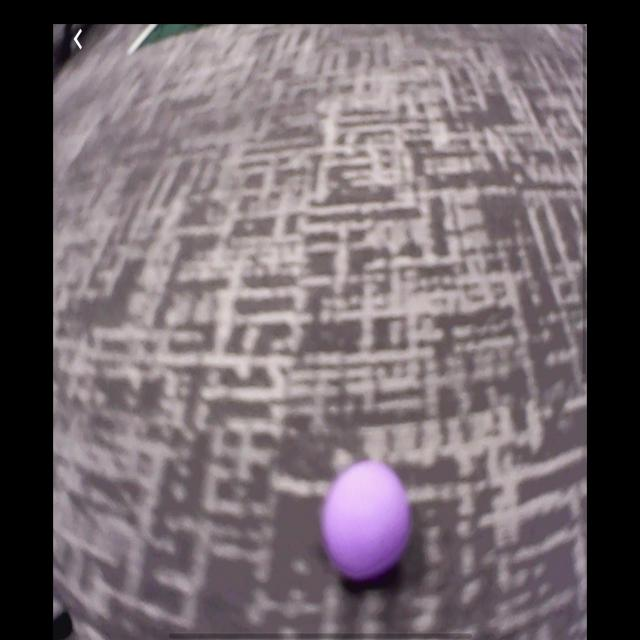ball: (323, 455, 409, 587)
